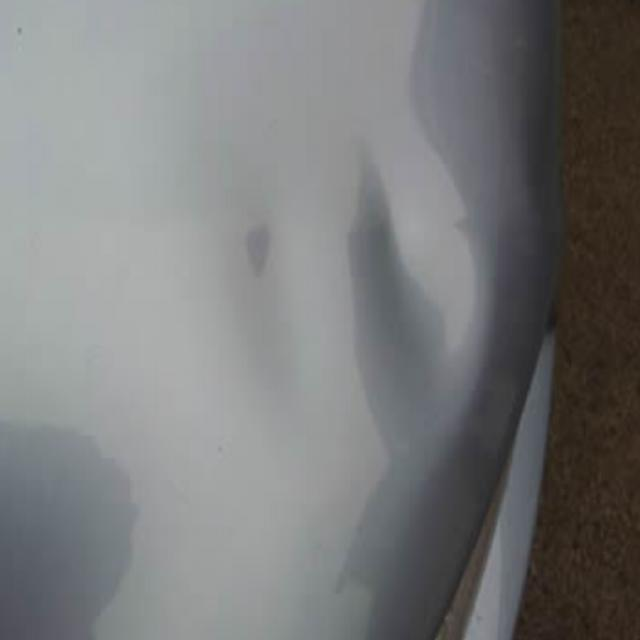dents: (333, 162, 464, 420), (220, 206, 302, 368)
